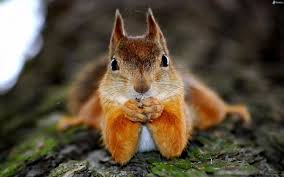Ardilla: (99, 4, 191, 163)
